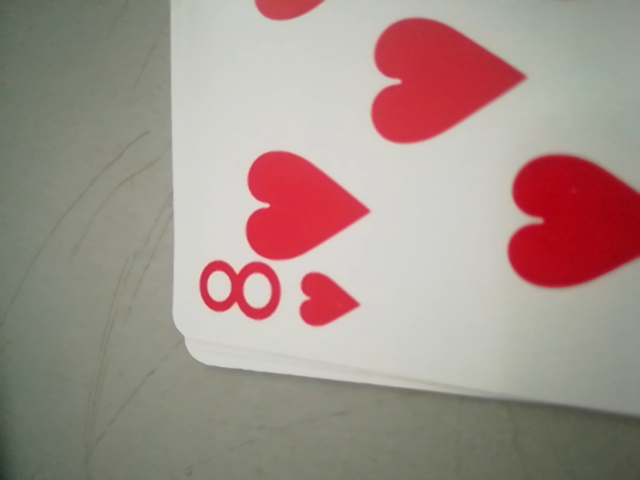hx 8: (188, 254, 377, 342)
